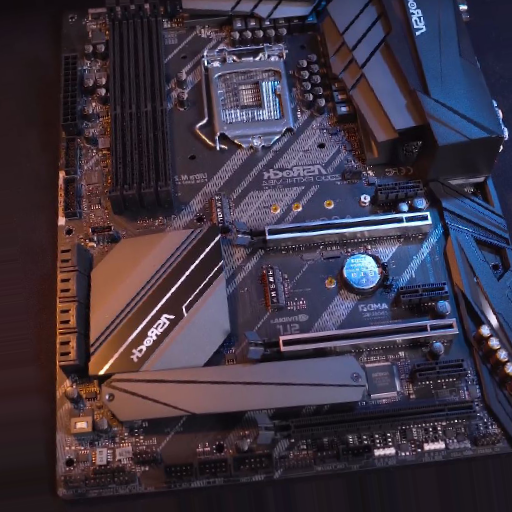CPU: (204, 49, 296, 150)
GPU: (253, 400, 481, 446), (245, 317, 459, 359), (232, 211, 435, 250)
MOTHERBOARD: (49, 5, 512, 491)
RAM: (104, 8, 179, 215)
SSD: (262, 264, 288, 308), (209, 191, 235, 230)
